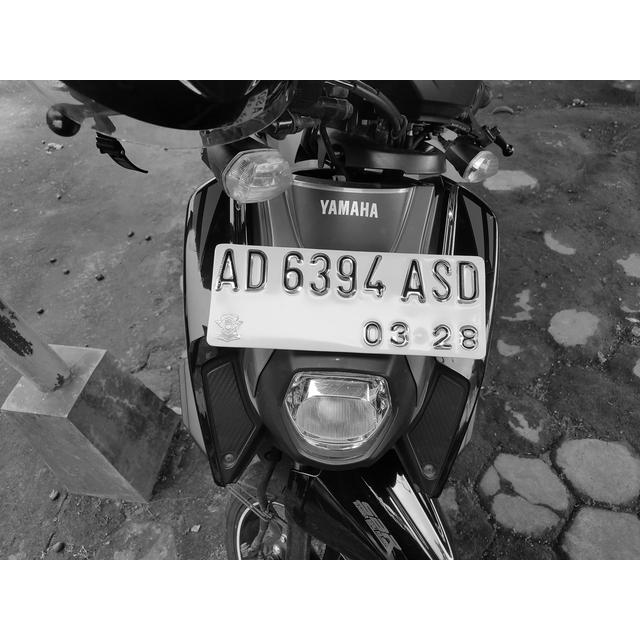license: (213, 247, 483, 353)
